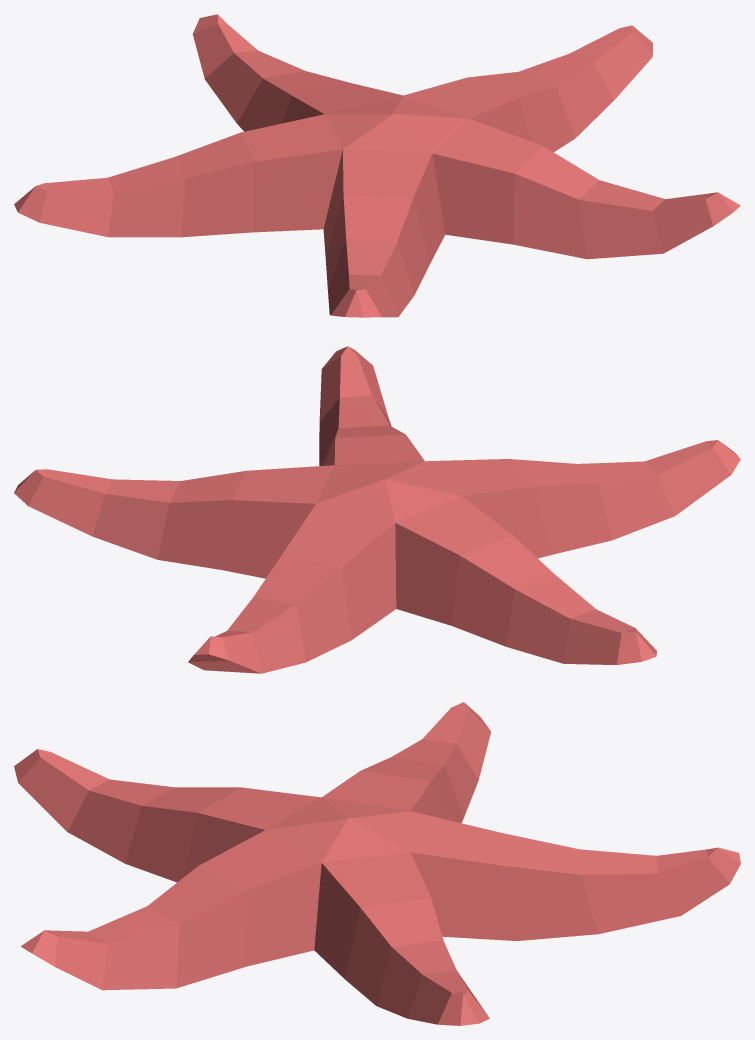
Rendered from star.glb.
3 renders of one model, top to bottom at view 1: azimuth 30°, elevation 25°; view 2: azimuth 150°, elevation 25°; view 3: azimuth 270°, elevation 25°, orthographic. The views are drawn at different scales.
Visible parts, largest first — view 1: Coral_005; view 2: Coral_005; view 3: Coral_005.
Boxes of the visible parts, <box> form: Coral_005: <box>14,14,740,317</box>; Coral_005: <box>14,346,740,673</box>; Coral_005: <box>14,702,740,1025</box>.
Size of what is drawn, in the model's own units: 0.6438 by 0.0914 by 0.603.
Materials: 1 (1 with a texture image).
